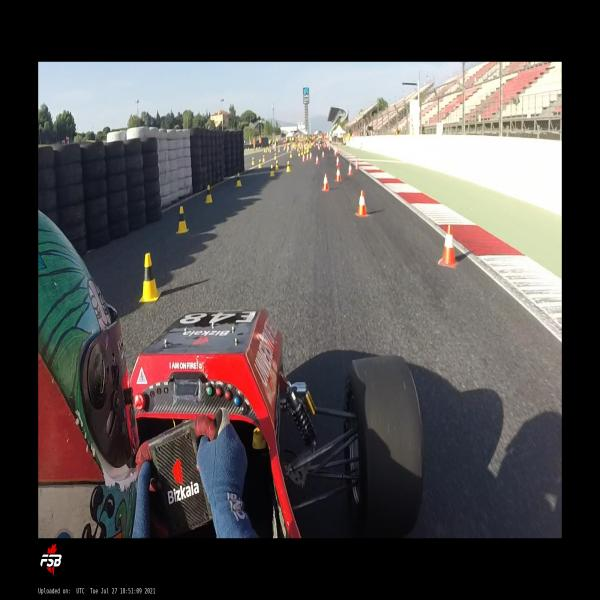orange_cone: (438, 224, 458, 267), (355, 190, 370, 217), (322, 173, 329, 191), (335, 166, 341, 182), (348, 163, 352, 176), (355, 159, 359, 170), (336, 156, 339, 166), (302, 154, 305, 162), (316, 155, 318, 165), (306, 153, 308, 161), (310, 152, 312, 160), (322, 151, 324, 158)
yellow_cone: (138, 252, 162, 302), (176, 206, 189, 234), (205, 184, 213, 203), (236, 173, 242, 186), (270, 164, 275, 177), (286, 161, 291, 172), (258, 158, 262, 169), (252, 156, 255, 166), (262, 155, 265, 163), (289, 151, 292, 158), (276, 160, 278, 170), (274, 152, 276, 161), (298, 150, 300, 157)
